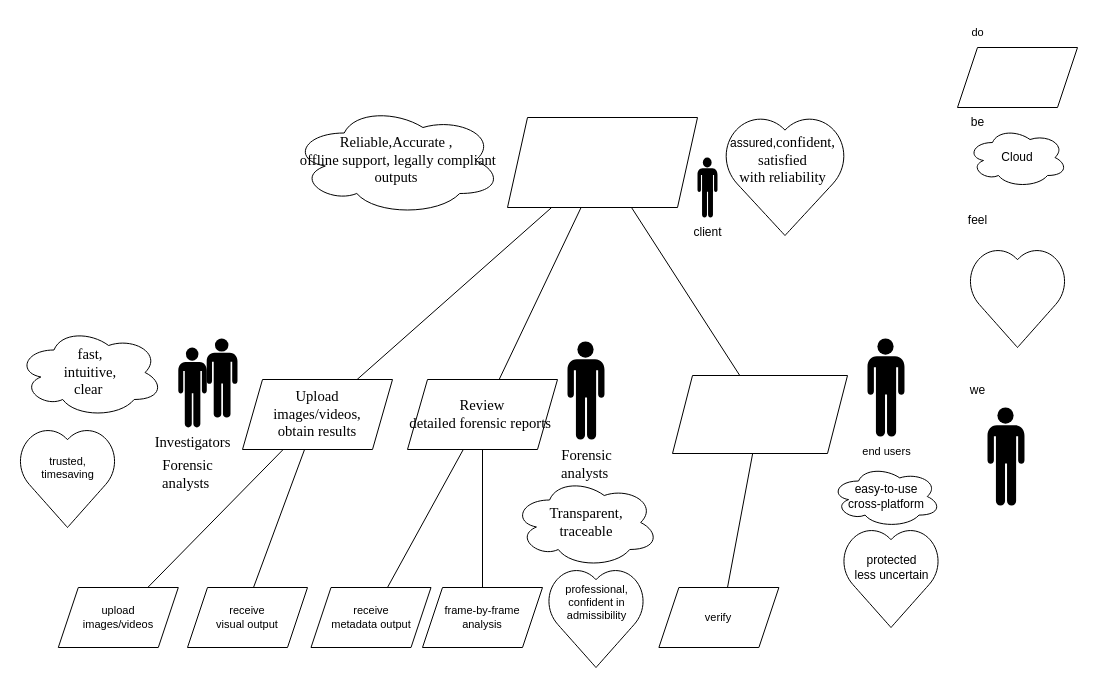
Image size: 1095x685. Some labels were removed from this diagram. Here are the shapes that lost their labels. From the top down, the box of each, then its label:
(506, 116, 698, 208): comp30022 project
(672, 374, 848, 454): Verify authenticity of online media content
